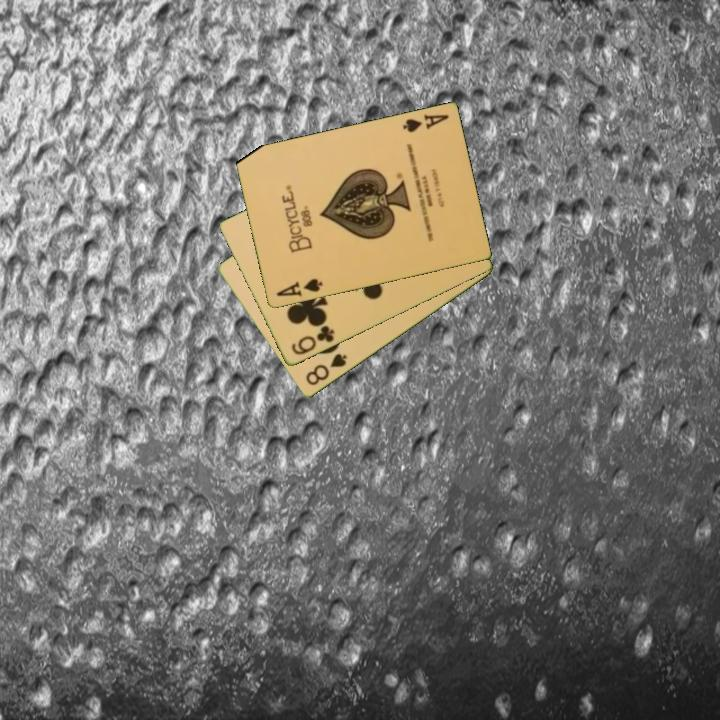6c: (288, 322, 337, 358)
8s: (302, 350, 350, 389)
As: (273, 275, 325, 300), (399, 111, 451, 136)
